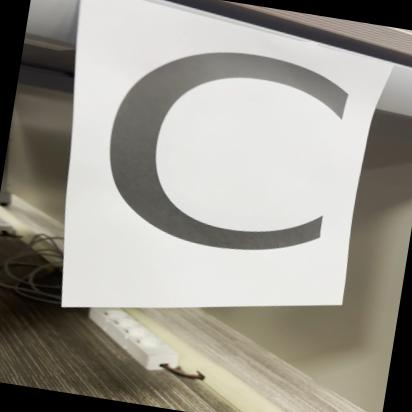seat: (59, 16, 372, 302)
